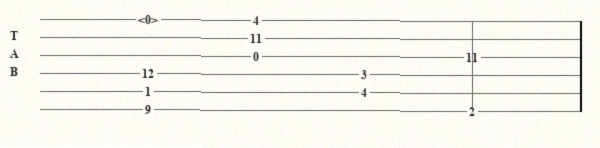0: (253, 50, 263, 63)
1: (145, 86, 155, 99)
11: (250, 32, 266, 45), (466, 50, 482, 63)
12: (142, 68, 158, 81)
2: (469, 104, 479, 117)
3: (361, 68, 371, 81)
4: (253, 14, 263, 27), (361, 86, 371, 99)
9: (145, 104, 155, 117)
harmonic: (138, 14, 162, 27)
